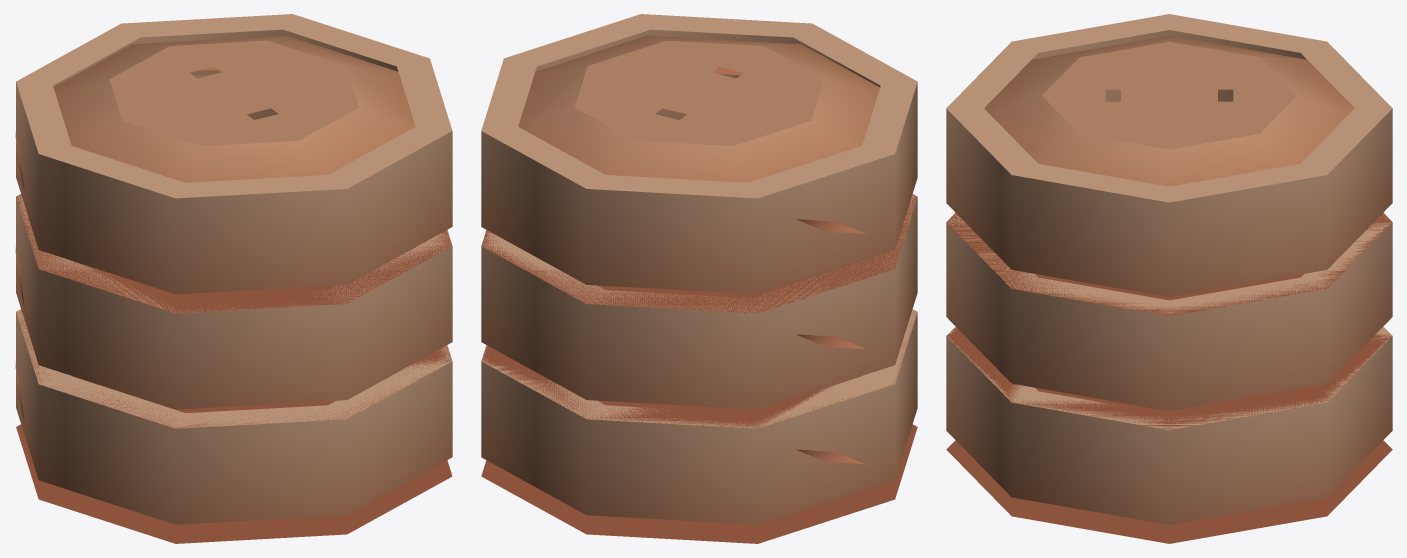
Rendered from steamer.fbx.
The picture shows the model from 3 angles, left to right: view 1: azimuth 30°, elevation 25°; view 2: azimuth 150°, elevation 25°; view 3: azimuth 270°, elevation 25°; orthographic projection.
Parts seen in each view (by area): view 1: lid; view 2: lid; view 3: lid.
Part boxes in pixels (x1,y1,x2,y2): lid: (14, 14, 452, 543); lid: (481, 14, 917, 543); lid: (946, 14, 1392, 543).
Size of the model in its own units: 1 by 0.875 by 1.
